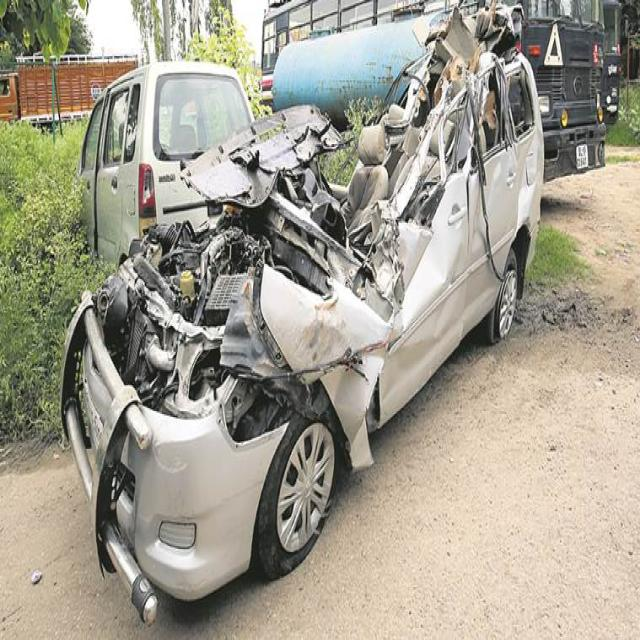accident: (61, 7, 545, 600)
bus: (261, 0, 458, 89), (521, 0, 606, 179), (460, 0, 485, 16)
car: (79, 63, 252, 262)
truck: (0, 54, 138, 123)
